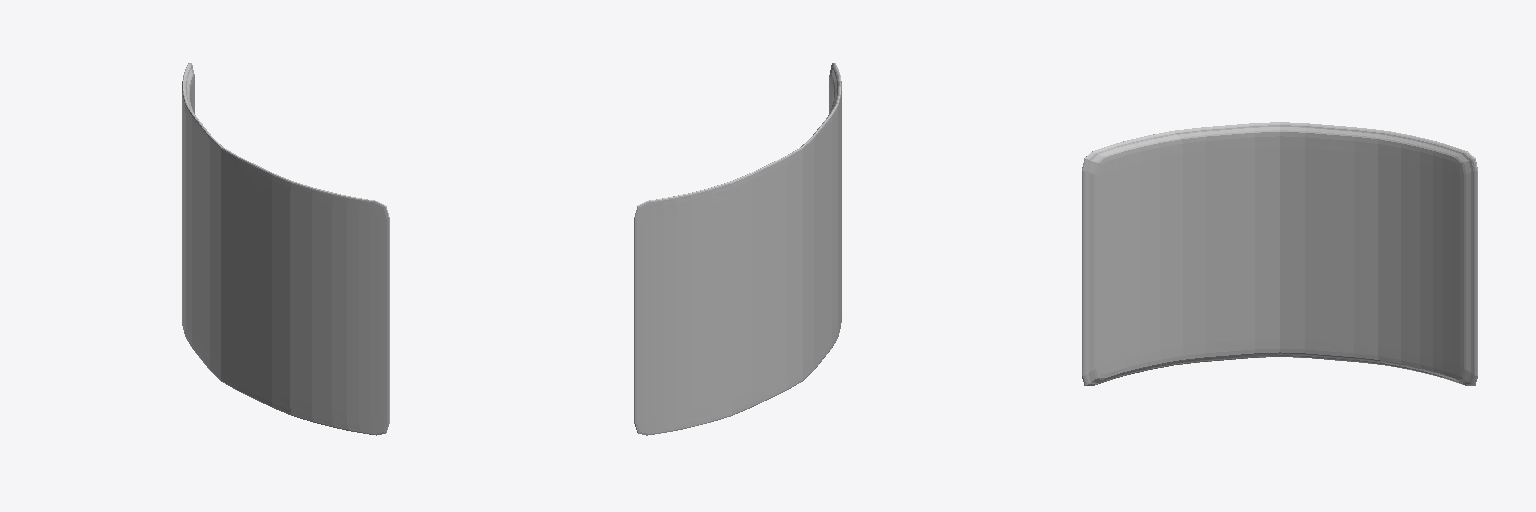
The model's file is incurve_wall.obj.
3 views of the same model, side by side, from view 1: azimuth 30°, elevation 25°; view 2: azimuth 150°, elevation 25°; view 3: azimuth 270°, elevation 25° (orthographic).
Visible parts, largest first — view 1: polySurface1 basic_wall:pCube1; view 2: polySurface1 basic_wall:pCube1; view 3: polySurface1 basic_wall:pCube1.
Part boxes in pixels (x1,y1,x2,y2): polySurface1 basic_wall:pCube1: (182,63,389,435); polySurface1 basic_wall:pCube1: (634,63,841,435); polySurface1 basic_wall:pCube1: (1082,122,1477,385).
Bounding box in the file's own units: 10.75 × 34.39 × 52.63.